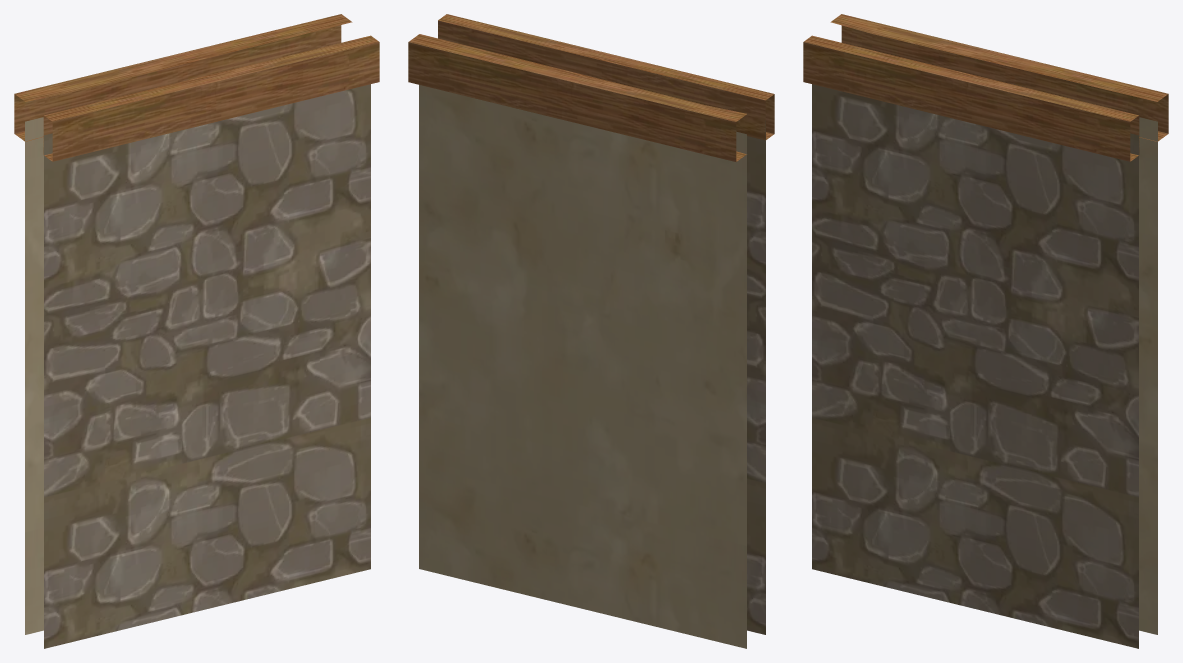
The model's file is Wall_UnevenBrick_Straight.gltf.
3 renders of one model, left to right at view 1: azimuth 30°, elevation 25°; view 2: azimuth 150°, elevation 25°; view 3: azimuth 330°, elevation 25°, orthographic.
Parts seen in each view (by area): view 1: Wall_UnevenBrick_Straight; view 2: Wall_UnevenBrick_Straight; view 3: Wall_UnevenBrick_Straight.
Part boxes in pixels (bbox=[...]): Wall_UnevenBrick_Straight: bbox=[14, 14, 379, 648]; Wall_UnevenBrick_Straight: bbox=[408, 14, 774, 648]; Wall_UnevenBrick_Straight: bbox=[803, 14, 1168, 648].
Bounding box in the file's own units: 2 × 3.12 × 0.4063.
Materials: 3 (3 with a texture image).
